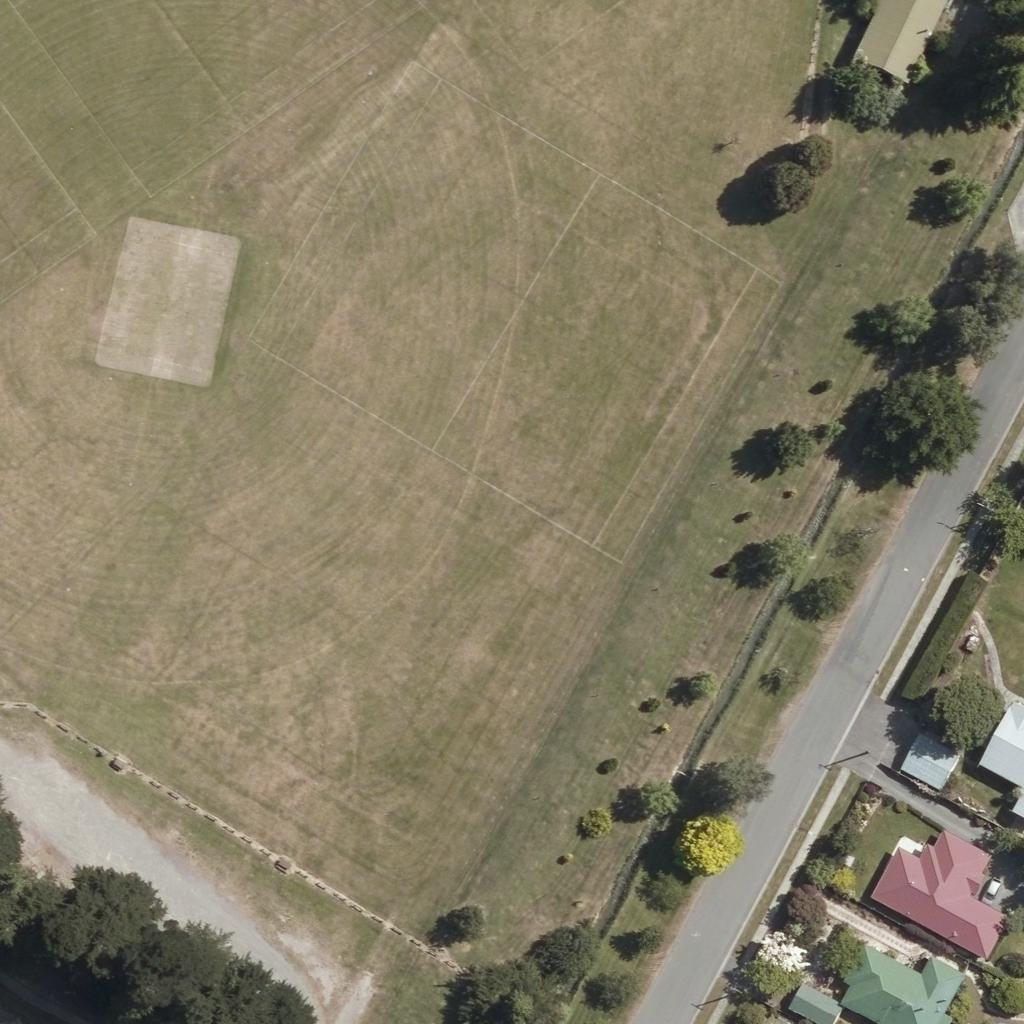car: (973, 872, 1007, 906)
